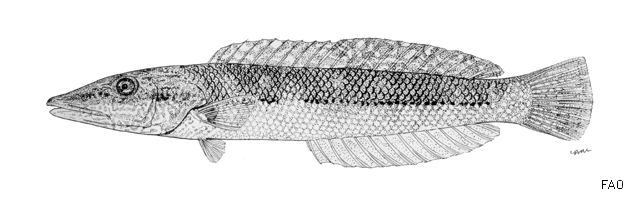fish: (48, 38, 595, 164)
